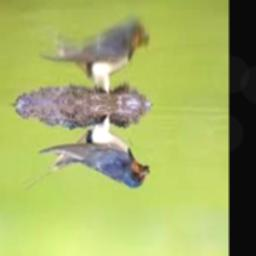Swallow: (22, 113, 149, 189)
